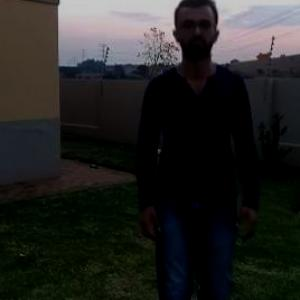follow: (136, 0, 263, 299)
